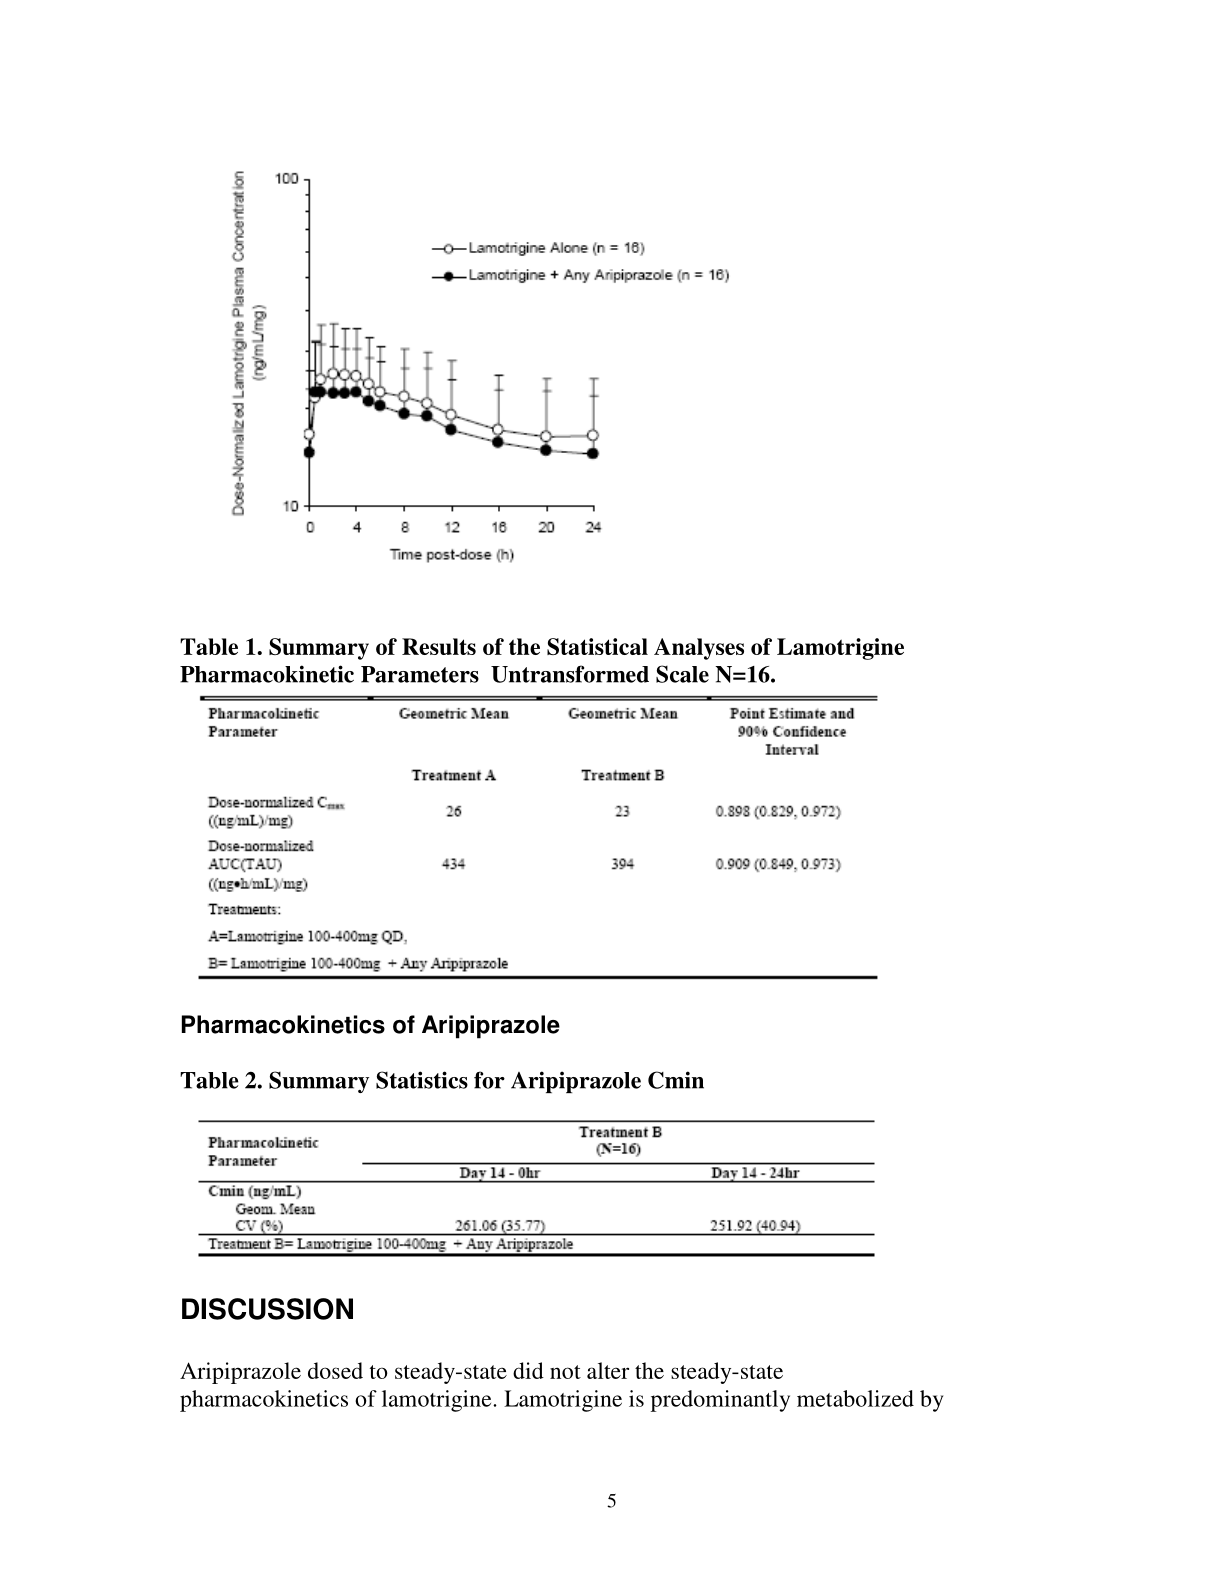partial_lined: (197, 694, 879, 981)
partial_lined_merged_cells: (195, 1119, 878, 1259)
